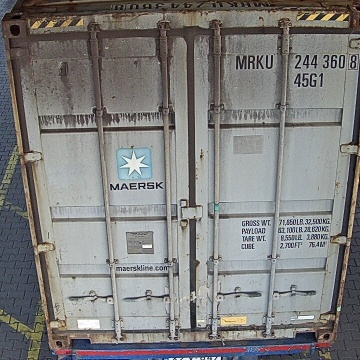serial_id: (236, 54, 358, 69)
